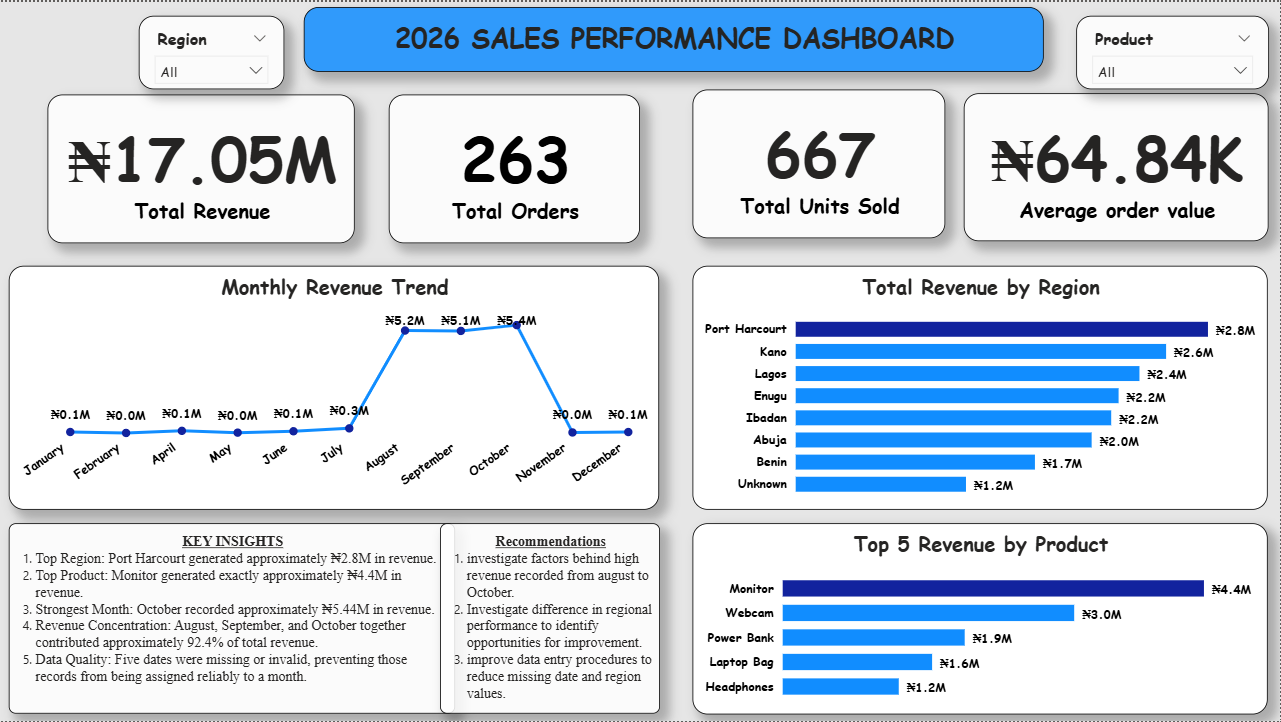

Layout of this report page (visuals, bound fields, positions):
{"tool":"powerbi","page":{"name":"Page 1","canvas":[1280,720],"ordinal":0},"visuals":[{"type":"card","fields":{"Values":["Sum(Sheet1.Revenue_NGN)"]},"box":[47.5,92.5,307.5,148.8],"z":0},{"type":"card","fields":{"Values":["Count(Sheet1.Order_ID)"]},"box":[388.8,92.5,251.2,148.8],"z":1000},{"type":"card","fields":{"Values":["Sum(Sheet1.Units_Sold)"]},"box":[692.5,87.5,252.5,148.8],"z":2000},{"type":"card","fields":{"Values":["Sheet1.Average order value"]},"box":[963.9,91.6,304.8,148.2],"z":3000},{"type":"clusteredBarChart","title":"Total Revenue by Region","fields":{"Category":["Sheet1.Region"],"Y":["Sum(Sheet1.Revenue_NGN)"]},"box":[692.2,263.6,575.3,244.2],"z":4000},{"type":"clusteredBarChart","title":"Top 5 Revenue by Product","fields":{"Category":["Sheet1.Product"],"Y":["Sum(Sheet1.Revenue_NGN)"]},"box":[692.2,520.8,575.3,190.9],"z":5000},{"type":"lineChart","title":"Monthly Revenue Trend","fields":{"Y":["Sum(Sheet1.Revenue_NGN)"],"Category":["Sheet1.Order_Date.Variation.Date Hierarchy.Month"]},"box":[9.1,263.6,650.6,244.2],"z":6000},{"type":"textbox","box":[303.6,4.8,739.8,65.1],"z":7000},{"type":"slicer","fields":{"Values":["Sheet1.Region"]},"box":[138.6,13.3,145.8,73.5],"z":8000},{"type":"slicer","fields":{"Values":["Sheet1.Product"]},"box":[1075.9,13.3,192.8,73.5],"z":9000},{"type":"textbox","box":[8.8,521.2,446.2,190],"z":10000},{"type":"textbox","box":[440,521.2,220,190],"z":11000}]}

Visuals, with their boxes in screenshot pixels (x1, y1, x2, y2), scaled from the page's 1280x720 canvas onto the 1281x722 screenshot:
card - Sum(Sheet1.Revenue_NGN): (48, 93, 355, 242)
card - Count(Sheet1.Order_ID): (389, 93, 640, 242)
card - Sum(Sheet1.Units_Sold): (693, 88, 946, 237)
card - Sheet1.Average order value: (965, 92, 1270, 240)
"Total Revenue by Region" clusteredBarChart: (693, 264, 1268, 509)
"Top 5 Revenue by Product" clusteredBarChart: (693, 522, 1268, 714)
"Monthly Revenue Trend" lineChart: (9, 264, 660, 509)
textbox: (304, 5, 1044, 70)
slicer - Sheet1.Region: (139, 13, 285, 87)
slicer - Sheet1.Product: (1077, 13, 1270, 87)
textbox: (9, 523, 455, 713)
textbox: (440, 523, 661, 713)
